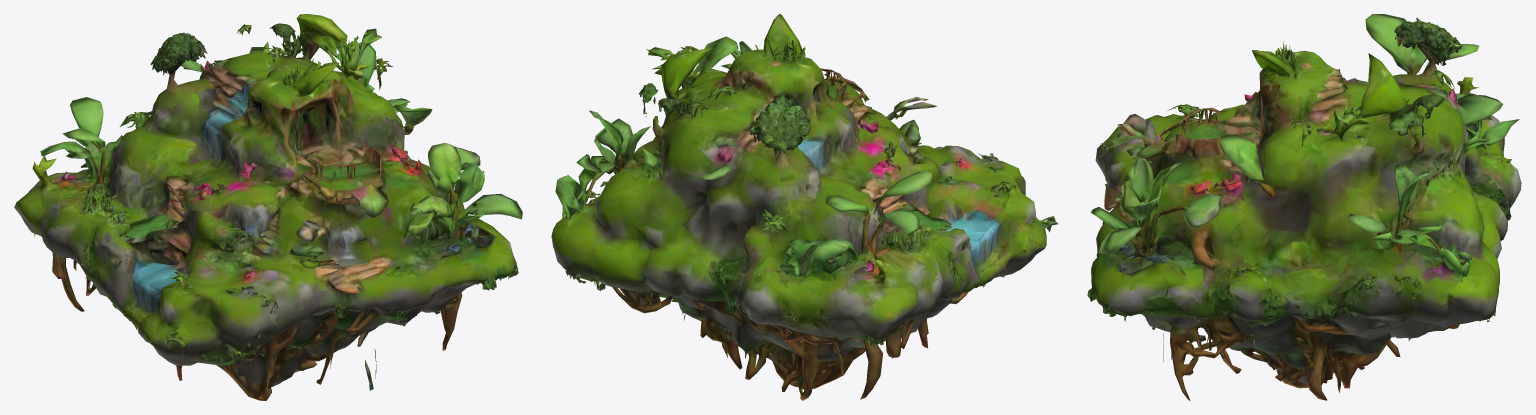
The model's file is _garden_floating_ga_2.glb.
3 views of the same model, side by side, from view 1: azimuth 30°, elevation 25°; view 2: azimuth 150°, elevation 25°; view 3: azimuth 270°, elevation 25° (orthographic). The views are drawn at different scales.
Parts seen in each view (by area): view 1: _garden_floating_ga_2; view 2: _garden_floating_ga_2; view 3: _garden_floating_ga_2.
Boxes of the visible parts, x1,y1,x2,y2 form: _garden_floating_ga_2: [14, 14, 522, 400]; _garden_floating_ga_2: [551, 14, 1057, 400]; _garden_floating_ga_2: [1087, 14, 1521, 400].
Bounding box in the file's own units: 1.98 × 1.83 × 1.96.
Materials: 1 (1 with a texture image).
